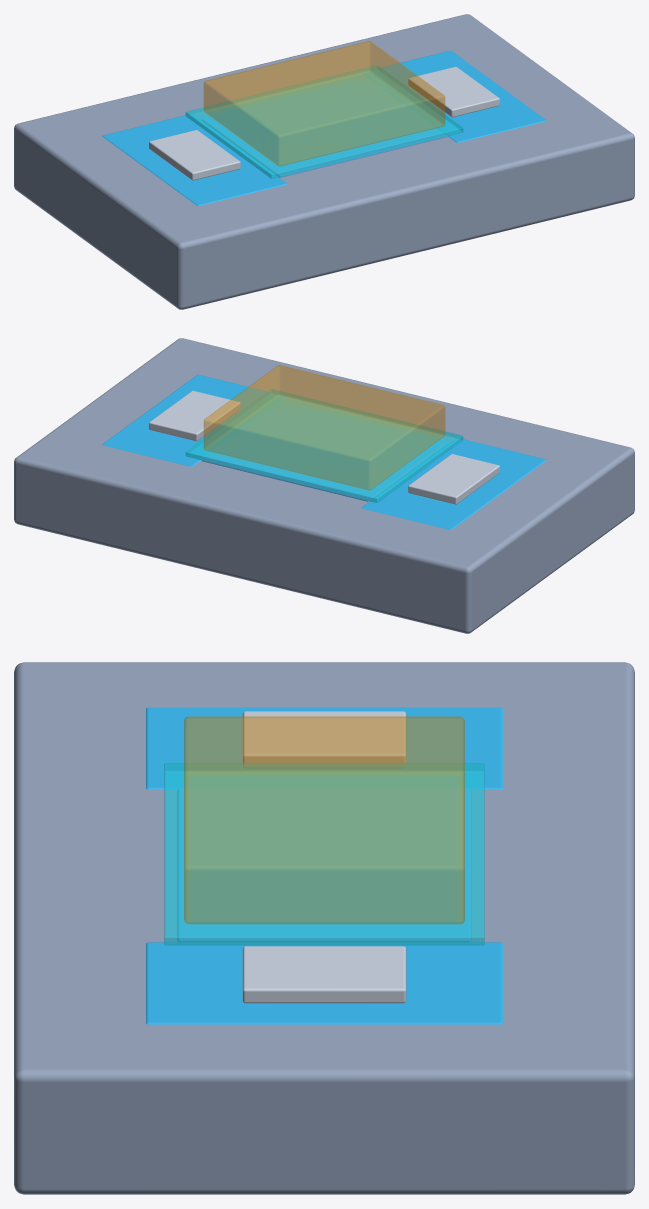
The model's file is mosfet.glb.
3 renders of one model, top to bottom at view 1: azimuth 30°, elevation 25°; view 2: azimuth 150°, elevation 25°; view 3: azimuth 270°, elevation 25°, orthographic. The views are drawn at different scales.
Visible parts, largest first — view 1: sub, gate, ox, chan, sd_l, sd_r, contact.001, contact; view 2: sub, gate, ox, chan, sd_l, sd_r, contact.001, contact; view 3: sub, ox, gate, chan, sd_r, sd_l, contact.001, contact.
Part boxes in pixels (<box>): sub: <box>14,14,634,309</box>; gate: <box>203,41,445,166</box>; ox: <box>185,65,463,178</box>; chan: <box>202,79,447,177</box>; sd_l: <box>102,114,287,205</box>; sd_r: <box>363,50,546,142</box>; contact.001: <box>408,66,499,117</box>; contact: <box>149,130,240,180</box>; sub: <box>14,338,634,633</box>; gate: <box>203,365,445,490</box>; ox: <box>185,389,463,502</box>; chan: <box>201,403,446,501</box>; sd_l: <box>361,438,546,529</box>; sd_r: <box>102,374,285,466</box>; contact.001: <box>149,390,240,441</box>; contact: <box>408,454,499,504</box>; sub: <box>14,662,634,1194</box>; ox: <box>164,763,484,945</box>; gate: <box>184,716,464,924</box>; chan: <box>177,788,471,941</box>; sd_r: <box>146,942,502,1024</box>; sd_l: <box>146,707,502,789</box>; contact.001: <box>242,946,406,1003</box>; contact: <box>242,711,406,767</box>.
Bounding box in the file's own units: 3 × 0.675 × 1.9.
